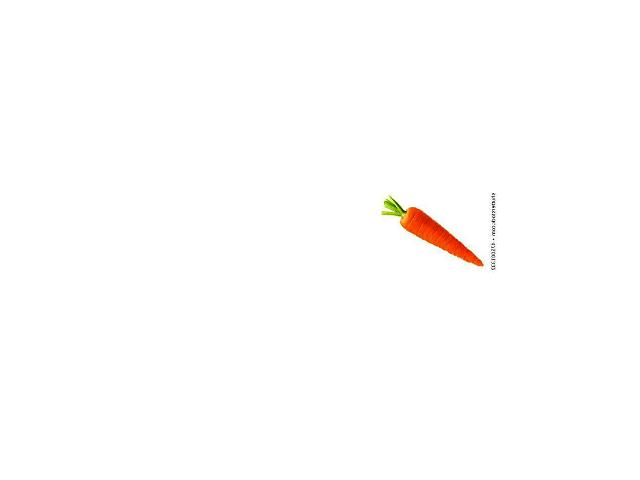carrot: (394, 197, 485, 271)
